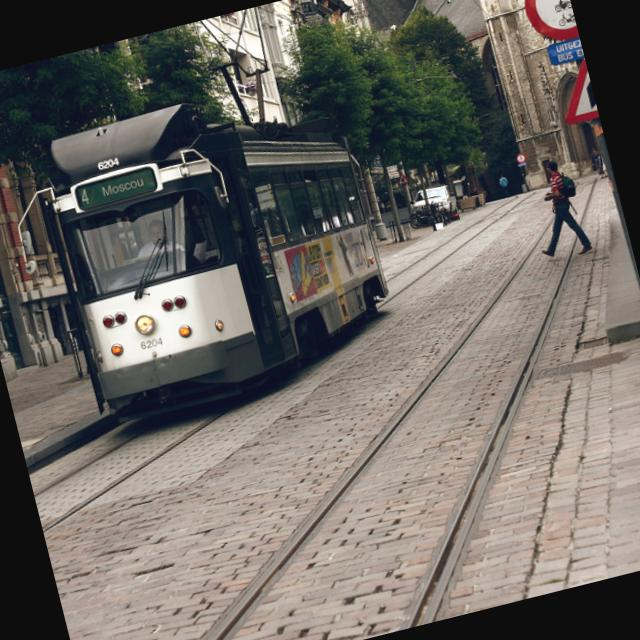Vehicle: (29, 66, 407, 416), (406, 182, 452, 218)
